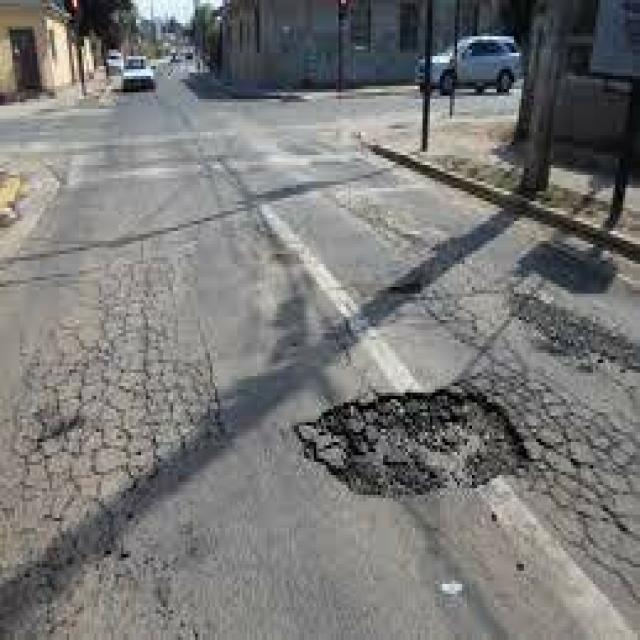Pothole: (287, 347, 625, 590)
